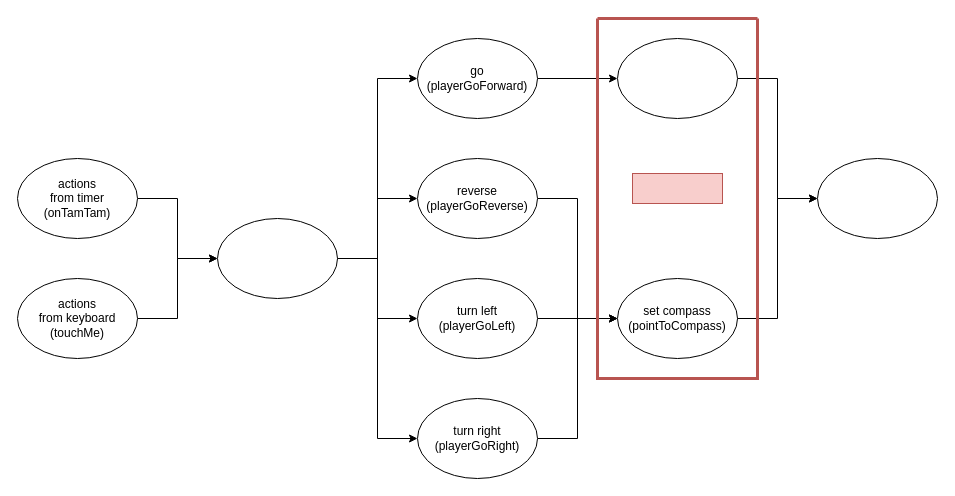
Image size: 955x496. Some labels were removed from this diagram. Here are the shapes that lost their labels. From the top down, the centre of each, then its label:
At (x=677, y=78): "set position (setPos)".
At (x=677, y=188): "class Player".
At (x=877, y=198): "show on scene (playerDraw)".
At (x=277, y=258): "player actions (playerMove)".
